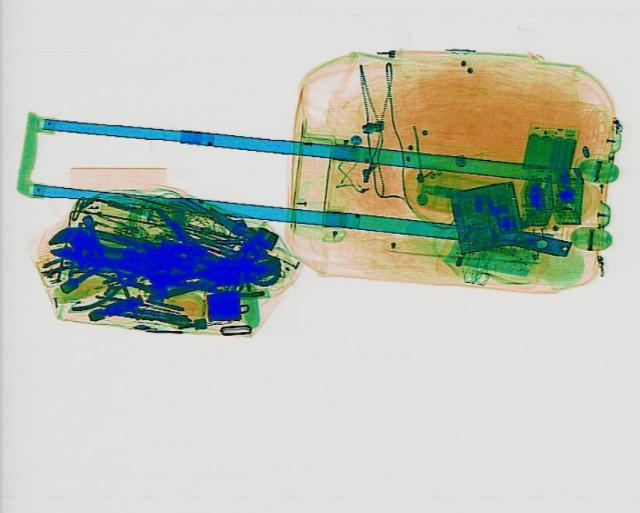Wrench: (41, 223, 283, 290)
